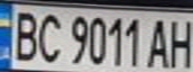0: (87, 12, 106, 66)
1: (106, 14, 127, 68), (124, 15, 145, 67)
9: (63, 11, 90, 65)
A: (145, 15, 172, 69)
B: (6, 7, 42, 63)
C: (33, 9, 66, 64)
H: (166, 15, 193, 69)
